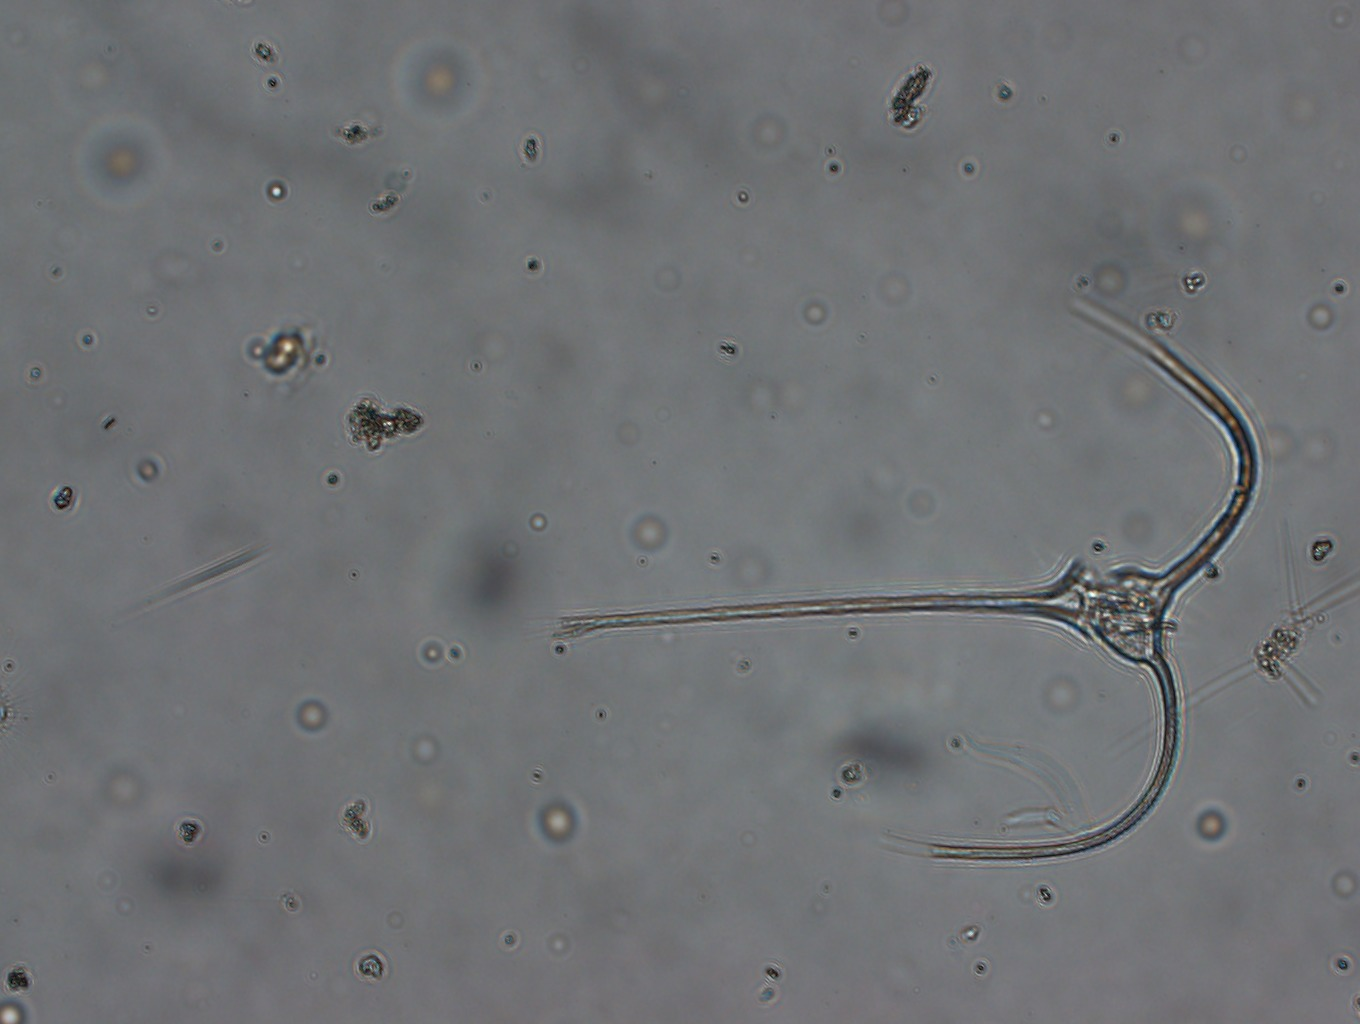ceratium trichoceros: (522, 282, 1263, 890)
